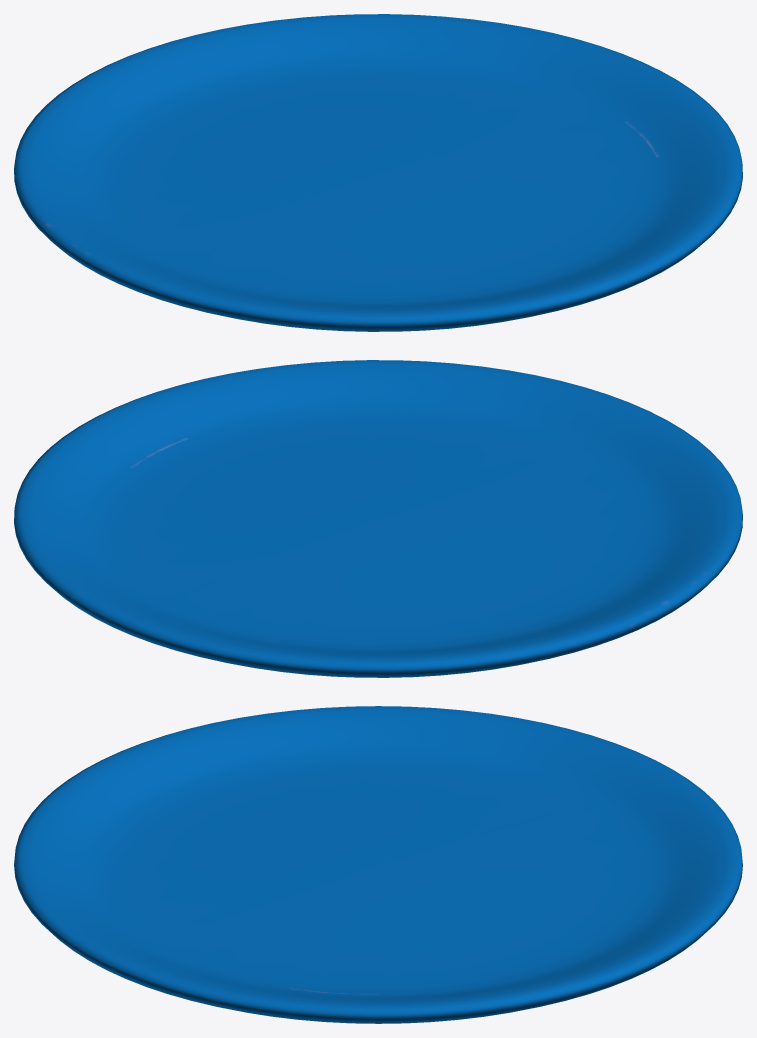
File: plate.glb
The picture shows the model from 3 angles, top to bottom: view 1: azimuth 30°, elevation 25°; view 2: azimuth 150°, elevation 25°; view 3: azimuth 270°, elevation 25°; orthographic projection.
Parts seen in each view (by area): view 1: Object_2; view 2: Object_2; view 3: Object_2.
Part boxes in pixels (x1,y1,x2,y2): Object_2: (14, 14, 742, 331); Object_2: (14, 360, 742, 677); Object_2: (14, 706, 742, 1023).
Size of the model in its own units: 1.05 by 0.1129 by 1.05.
Materials: 1 (1 with a texture image).
